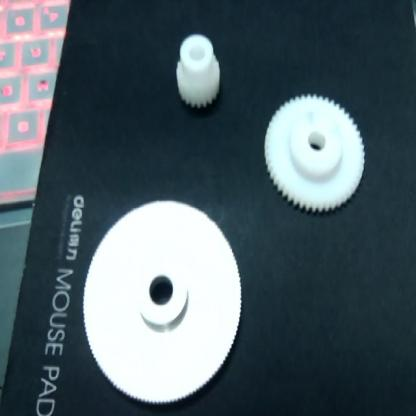FOD: (81, 195, 249, 406), (252, 80, 367, 213), (162, 21, 220, 113)
